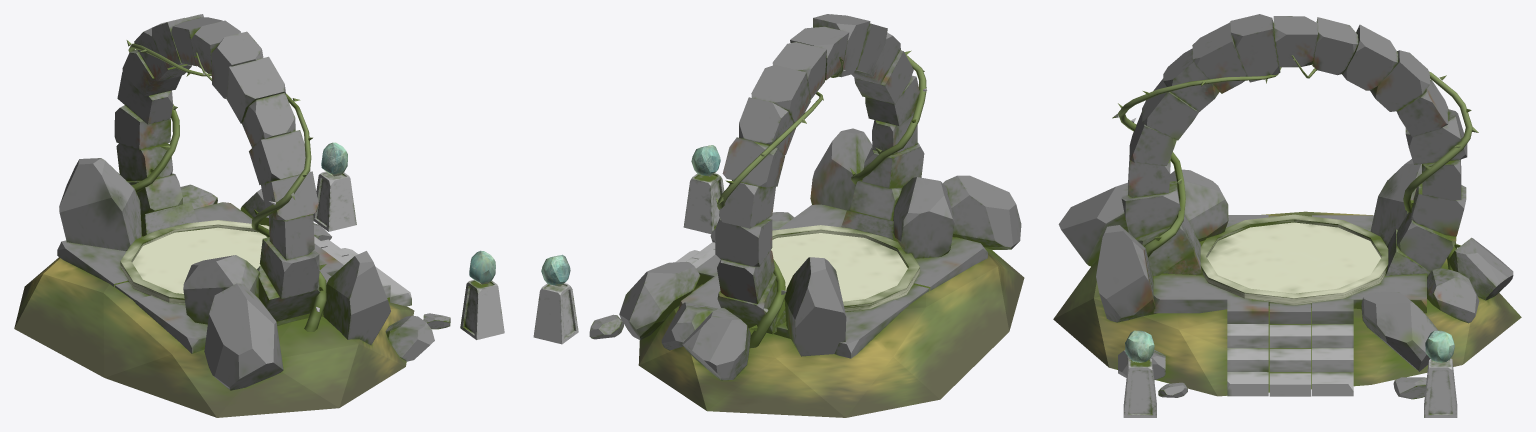
Rendered from Portal.fbx.
3 renders of one model, left to right at view 1: azimuth 30°, elevation 25°; view 2: azimuth 150°, elevation 25°; view 3: azimuth 270°, elevation 25°, orthographic.
Parts seen in each view (by area): view 1: Icosphere, Cylinder, Cube.022, Cube.024, Cube.020, Cube.019, Cube.028, Cube.001, Cube.006, Cube.004, Cube.032, Cube.030 (+22 smaller); view 2: Icosphere, Cylinder, Cube.022, Cube.020, Cube.024, Cube.028, Cube.026, Cube.029, Cube.019, Cube.014, Cube.030, Cube.010 (+23 smaller); view 3: Cube.022, Icosphere, Cylinder, Cube.019, Cube.026, Cube.024, Cube.007, Cube.028, Cube.029, Cube.006, Cube.010, Cube.001 (+25 smaller).
Boxes of the visible parts, x1,y1,x2,y2 form: Icosphere: (14,257,414,417); Cylinder: (120,220,269,304); Cube.022: (57,202,411,353); Cube.024: (204,283,283,390); Cube.020: (59,158,141,251); Cube.019: (323,251,390,345); Cube.028: (183,255,260,324); Cube.001: (259,237,319,299); Cube.006: (227,56,285,123); Cube.004: (249,130,310,184); Cube.032: (460,280,504,339); Cube.030: (313,171,356,231); Icosphere: (638,247,1024,417); Cylinder: (771,225,919,311); Cube.022: (675,204,987,358); Cube.020: (784,257,846,356); Cube.024: (943,175,1021,249); Cube.028: (893,177,954,258); Cube.026: (619,261,700,340); Cube.029: (682,308,750,380); Cube.019: (810,128,872,211); Cube.014: (715,218,772,266); Cube.030: (533,283,578,344); Cube.010: (751,65,810,122); Cube.022: (1153,215,1426,396); Icosphere: (1053,211,1521,396); Cylinder: (1200,214,1388,307); Cube.019: (1096,225,1156,322); Cube.026: (1361,292,1438,371); Cube.024: (1058,182,1128,266); Cube.007: (1230,14,1280,82); Cube.028: (1170,169,1228,241); Cube.029: (1448,237,1513,300); Cube.006: (1192,22,1246,93); Cube.010: (1342,24,1397,90); Cube.001: (1121,181,1183,238).
Bounding box in the file's own units: 640 × 497 × 704.
